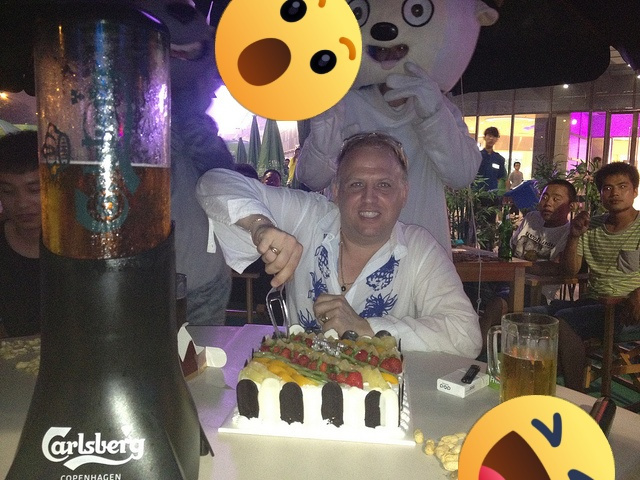haha: (458, 395, 615, 480)
wow: (215, 0, 362, 121)
